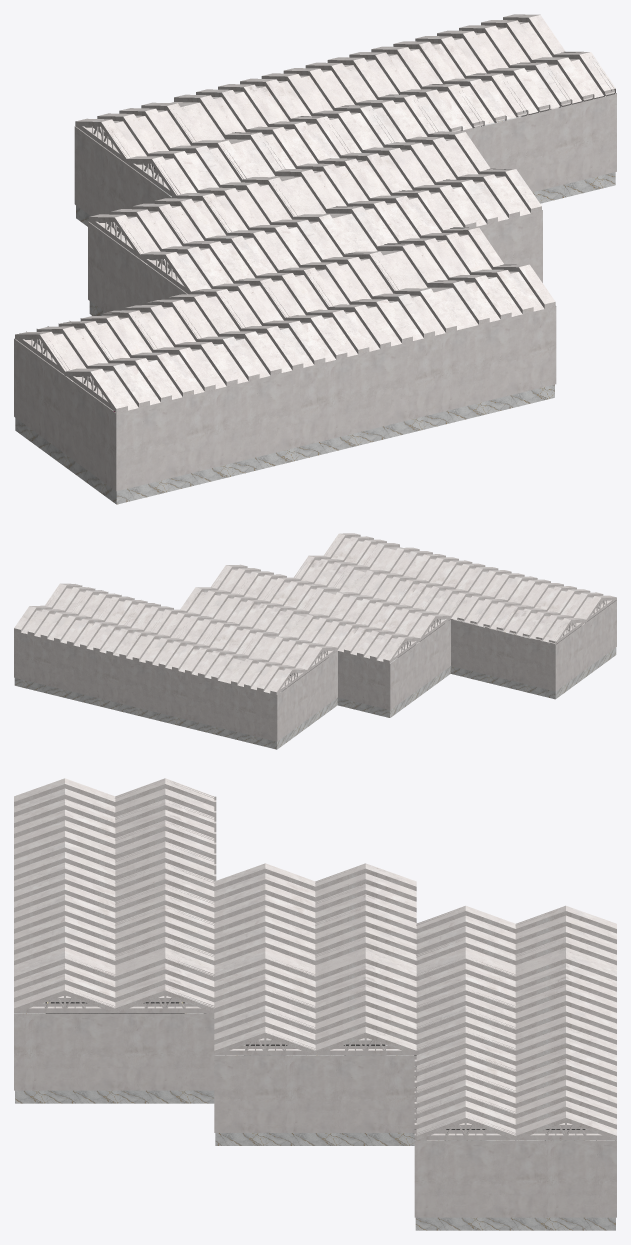
File: SCN_Museum.fbx
The picture shows the model from 3 angles, top to bottom: view 1: azimuth 30°, elevation 25°; view 2: azimuth 150°, elevation 25°; view 3: azimuth 270°, elevation 25°; orthographic projection. The views are drawn at different scales.
Visible parts, largest first — view 1: MSH_Roof.002, MSH_OUTERWALL, MSH_BEAM, MSH_STRUTS.001; view 2: MSH_Roof.002, MSH_OUTERWALL, MSH_BEAM, MSH_STRUTS.001; view 3: MSH_Roof.002, MSH_OUTERWALL, MSH_BEAM, MSH_STRUTS.001.
Part boxes in pixels (x1,y1,x2,y2): MSH_Roof.002: (15,14,615,413); MSH_OUTERWALL: (14,93,616,504); MSH_BEAM: (15,18,615,411); MSH_STRUTS.001: (16,51,614,397); MSH_Roof.002: (14,533,616,694); MSH_OUTERWALL: (14,600,616,749); MSH_BEAM: (48,535,615,694); MSH_STRUTS.001: (48,553,610,685); MSH_Roof.002: (14,778,616,1140); MSH_OUTERWALL: (14,806,616,1230); MSH_BEAM: (14,796,616,1139); MSH_STRUTS.001: (28,785,586,1135).
Size of the model in its own units: 8020 by 1250 by 6020.
Materials: 6 (6 with a texture image).
